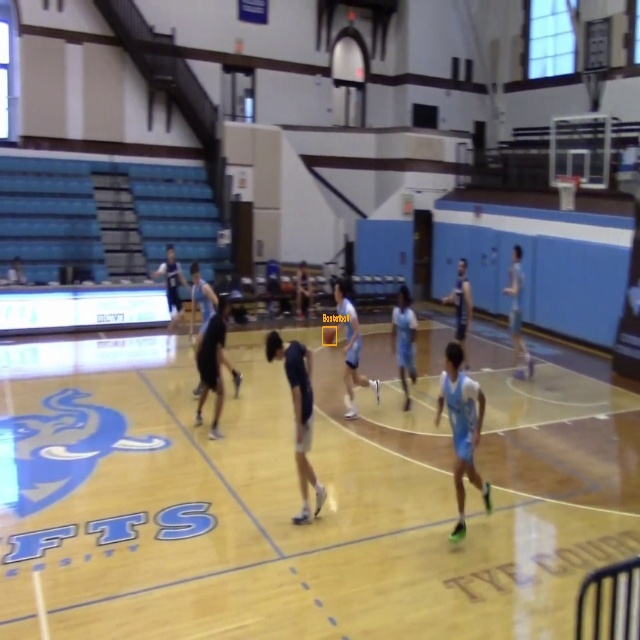Basketball: (323, 327, 337, 345)
